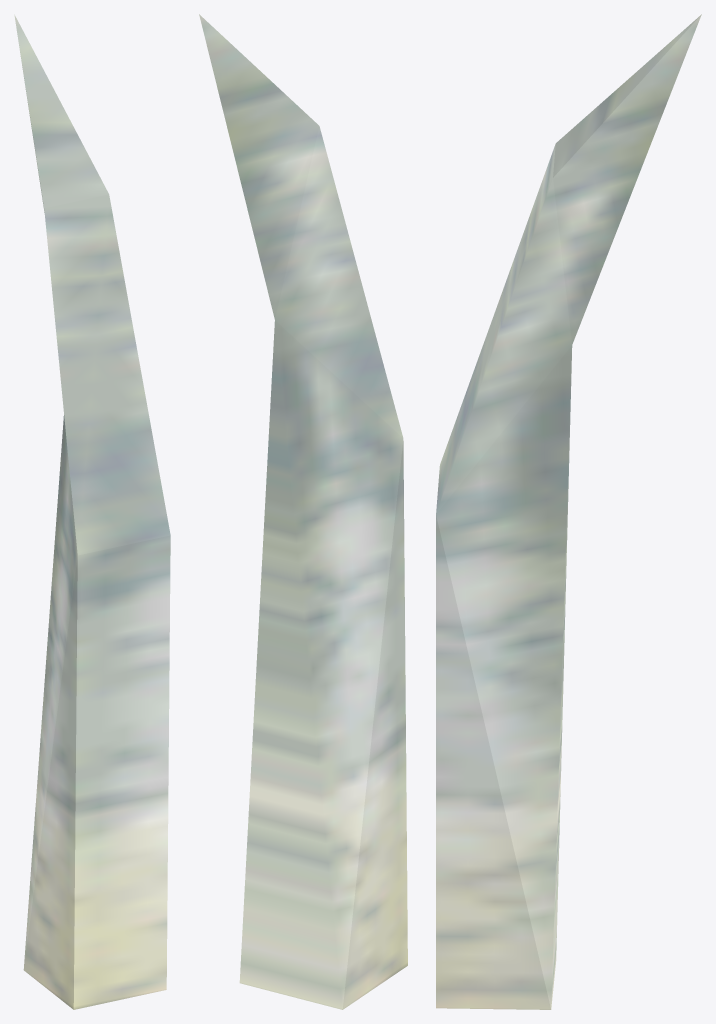
File: rib01.glb
3 renders of one model, left to right at view 1: azimuth 30°, elevation 25°; view 2: azimuth 150°, elevation 25°; view 3: azimuth 270°, elevation 25°, orthographic. The views are drawn at different scales.
Parts seen in each view (by area): view 1: rib01; view 2: rib01; view 3: rib01.
Boxes of the visible parts, bbox=[...] form: rib01: bbox=[14, 14, 170, 1009]; rib01: bbox=[199, 14, 407, 1009]; rib01: bbox=[436, 14, 701, 1009].
Size of the model in its own units: 265 by 2380 by 586.
Materials: 1 (1 with a texture image).
